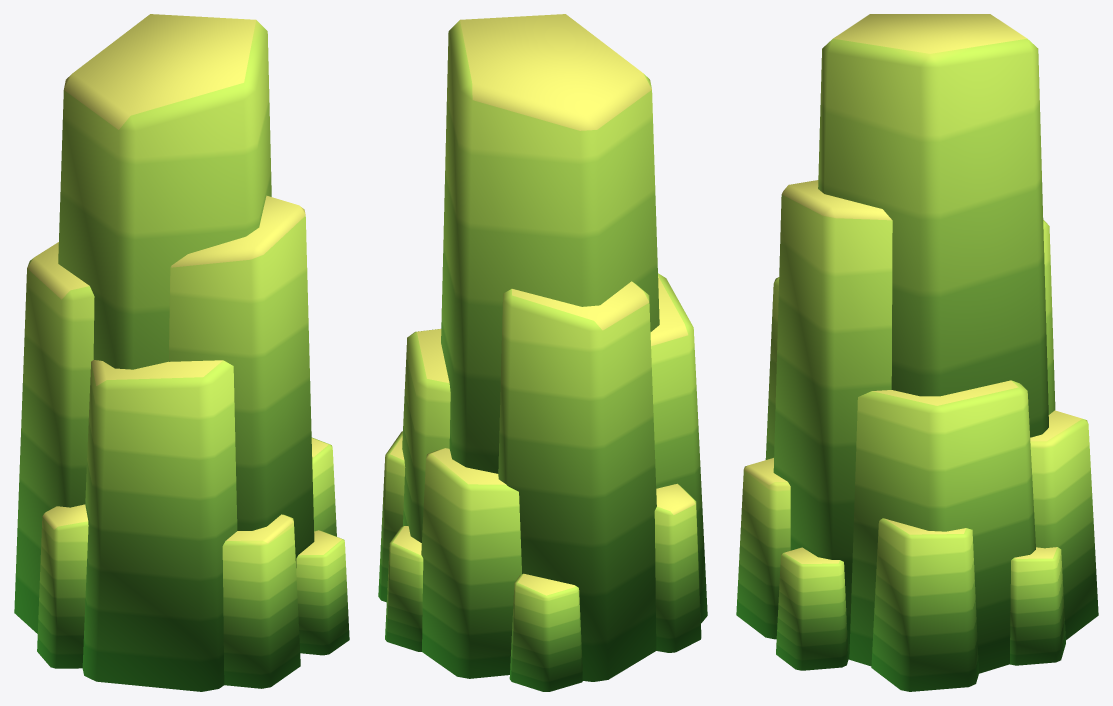
File: cliff_005.fbx
The picture shows the model from 3 angles, left to right: view 1: azimuth 30°, elevation 25°; view 2: azimuth 150°, elevation 25°; view 3: azimuth 270°, elevation 25°; orthographic projection. The views are drawn at different scales.
Visible parts, largest first — view 1: cliff.005; view 2: cliff.005; view 3: cliff.005.
Part boxes in pixels (box(x1,y1,x2,y2)): cliff.005: box(14, 14, 349, 691); cliff.005: box(378, 14, 707, 691); cliff.005: box(736, 14, 1098, 691).
Bounding box in the file's own units: 41.92 × 78.36 × 42.8.
